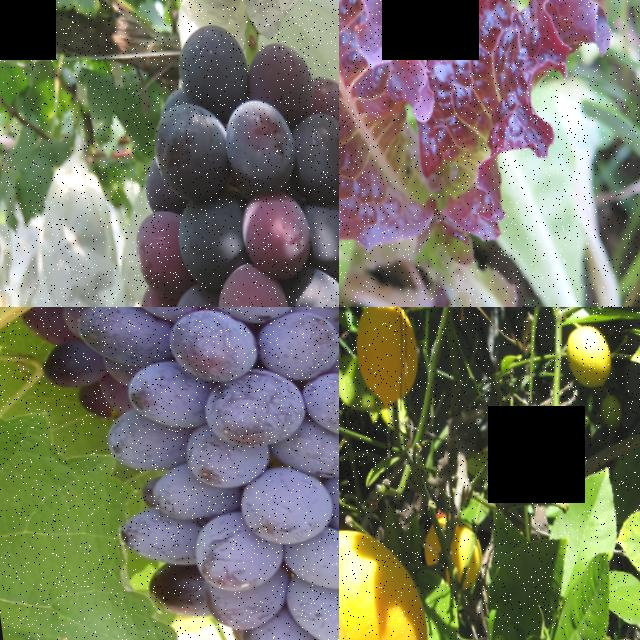grapes: (42, 307, 339, 640), (80, 11, 339, 307)
lemon: (339, 527, 434, 640), (343, 307, 425, 407)
